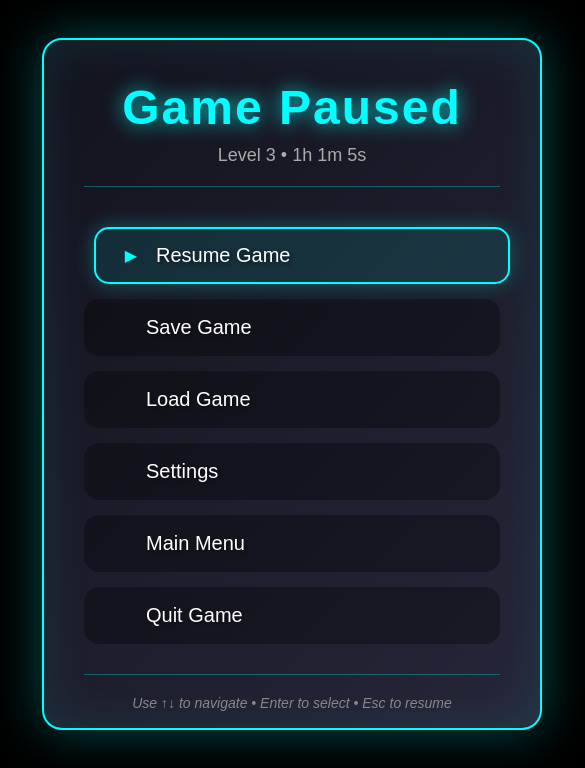
Test: InGamePauseMenu Component › shows save game menu
Click the text "Save Game" at (199, 327), box top-left (146, 316), bottom-right (252, 338)
(page scrolled)
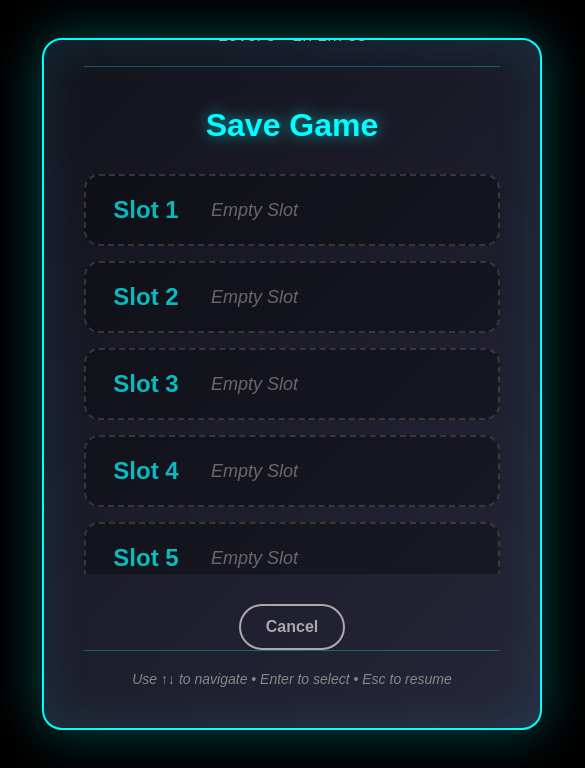
Expected: the text "Slot 1" is shown, top-left (113, 196), bottom-right (179, 223)
Expected: the text "Slot 2" is shown, top-left (113, 283), bottom-right (179, 310)
Expected: the button "Cancel" is shown, top-left (239, 604), bottom-right (345, 650)
